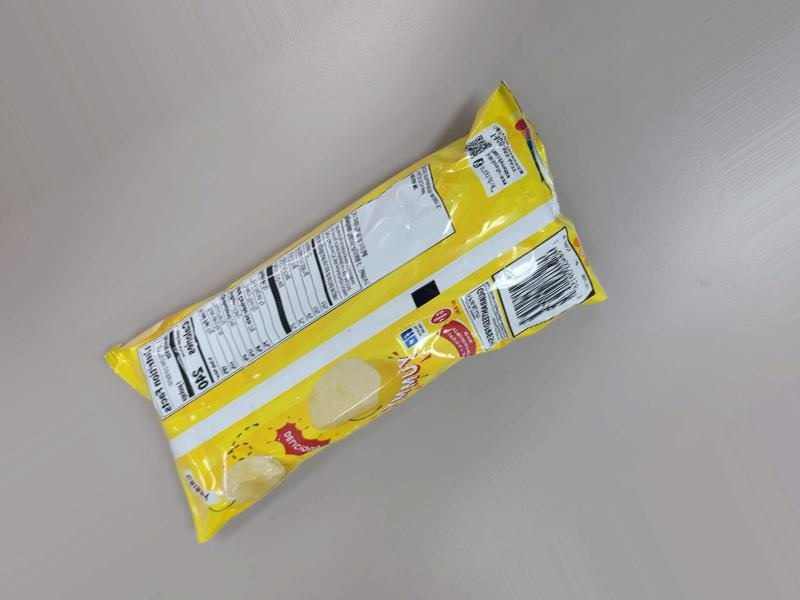lays: (91, 143, 558, 571)
